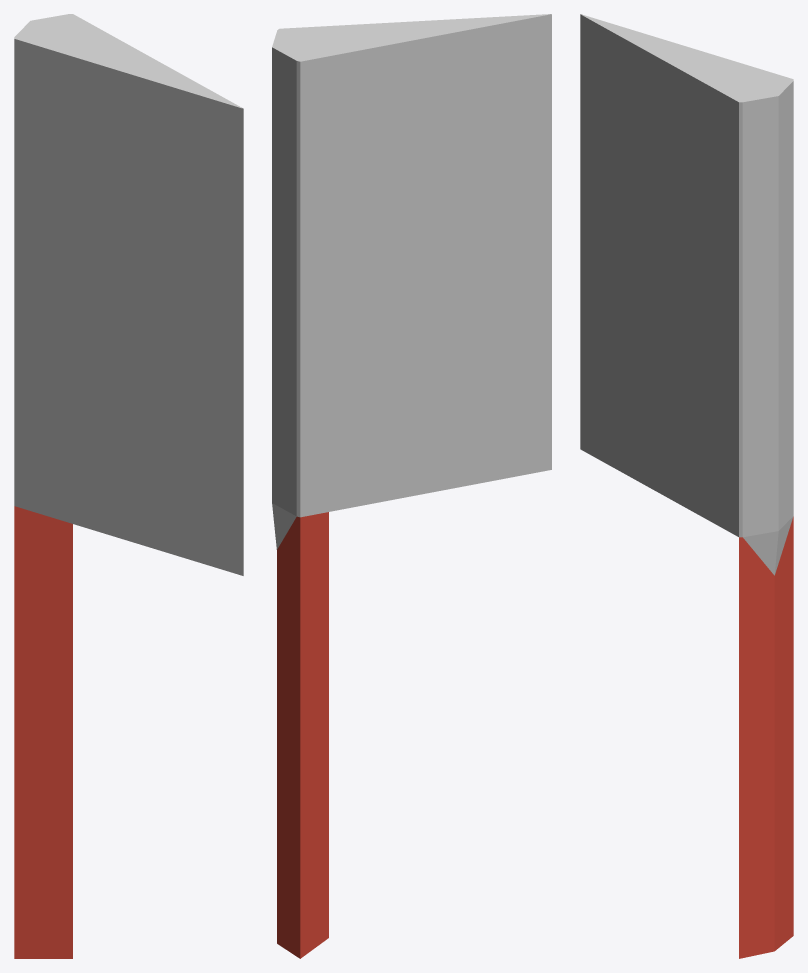
Rendered from Knife Prototype.fbx.
The picture shows the model from 3 angles, left to right: view 1: azimuth 90°, elevation 25°; view 2: azimuth 150°, elevation 25°; view 3: azimuth 270°, elevation 25°; orthographic projection. The views are drawn at different scales.
Visible parts, largest first — view 1: Cube; view 2: Cube; view 3: Cube.
Boxes of the visible parts, left/top/right/bottom form: Cube: left=14, top=14, right=243, bottom=958; Cube: left=272, top=14, right=551, bottom=958; Cube: left=580, top=14, right=793, bottom=958.
Bounding box in the file's own units: 101 × 457 × 103.
